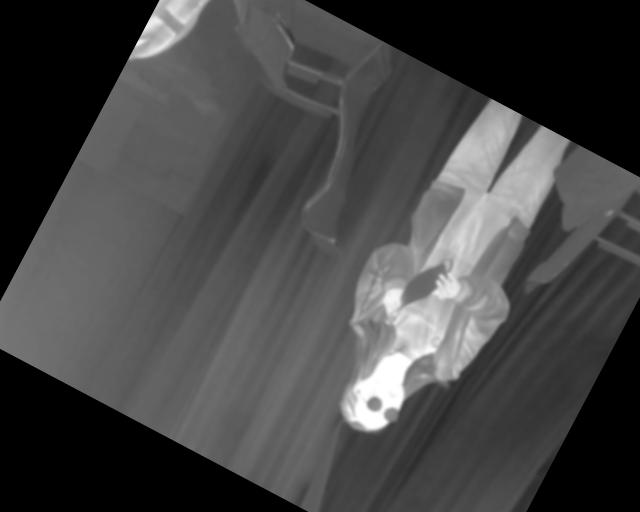face: (332, 361, 414, 445)
